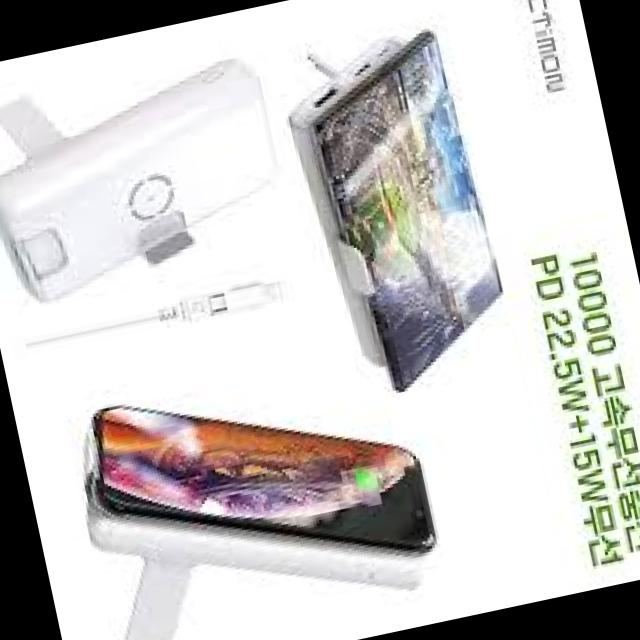portable-charger: (0, 55, 299, 317), (81, 442, 424, 640), (276, 31, 467, 374)
